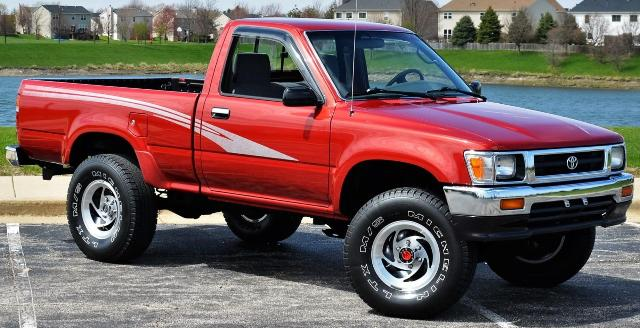pickup-truck: (1, 17, 634, 319)
